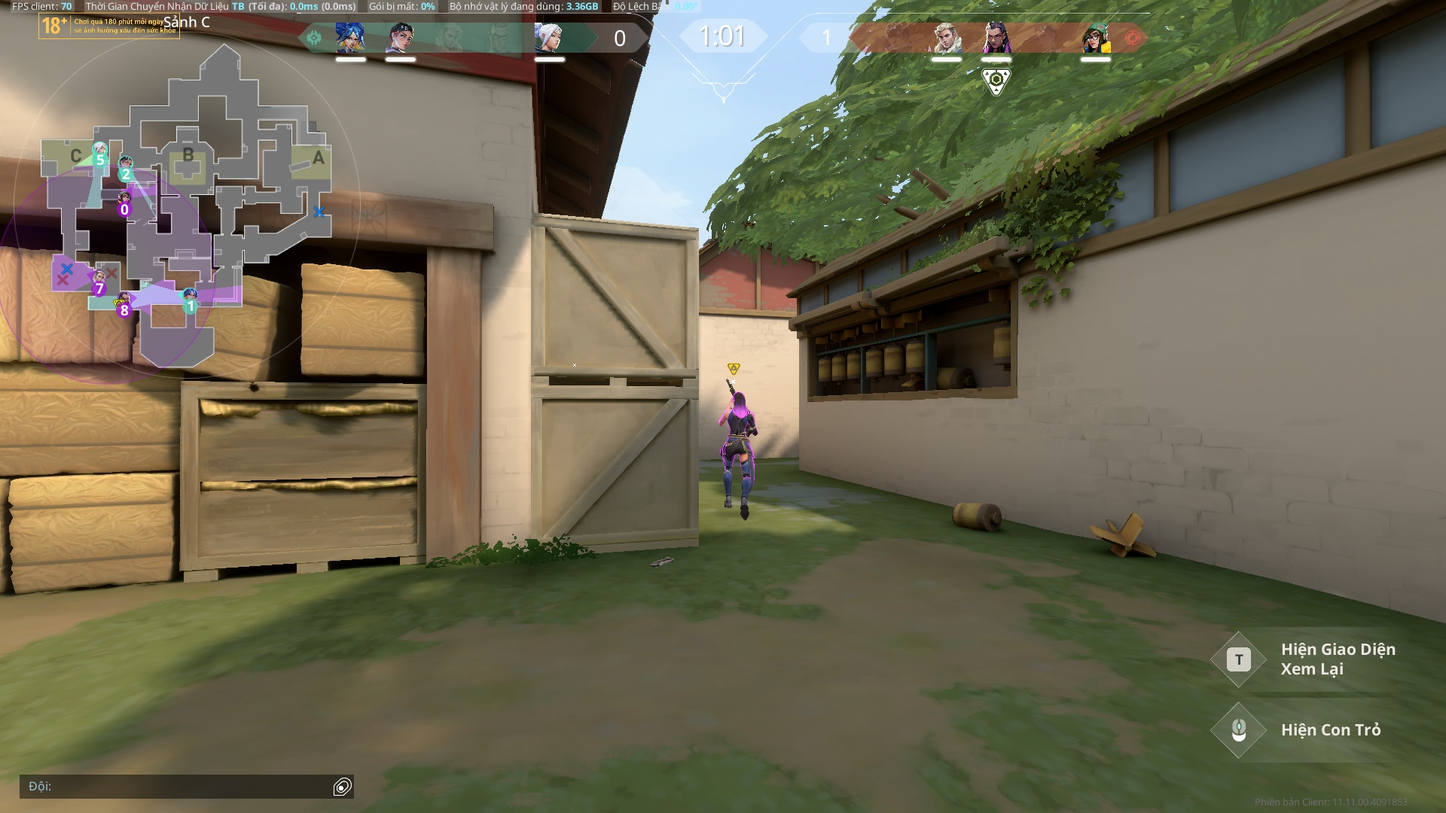body: (723, 406, 754, 433)
head: (731, 391, 746, 407)
